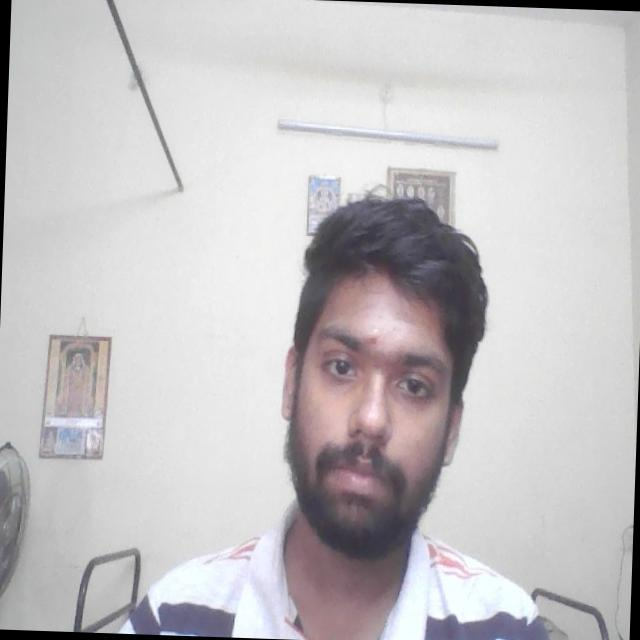Focused: (278, 284, 466, 536)
